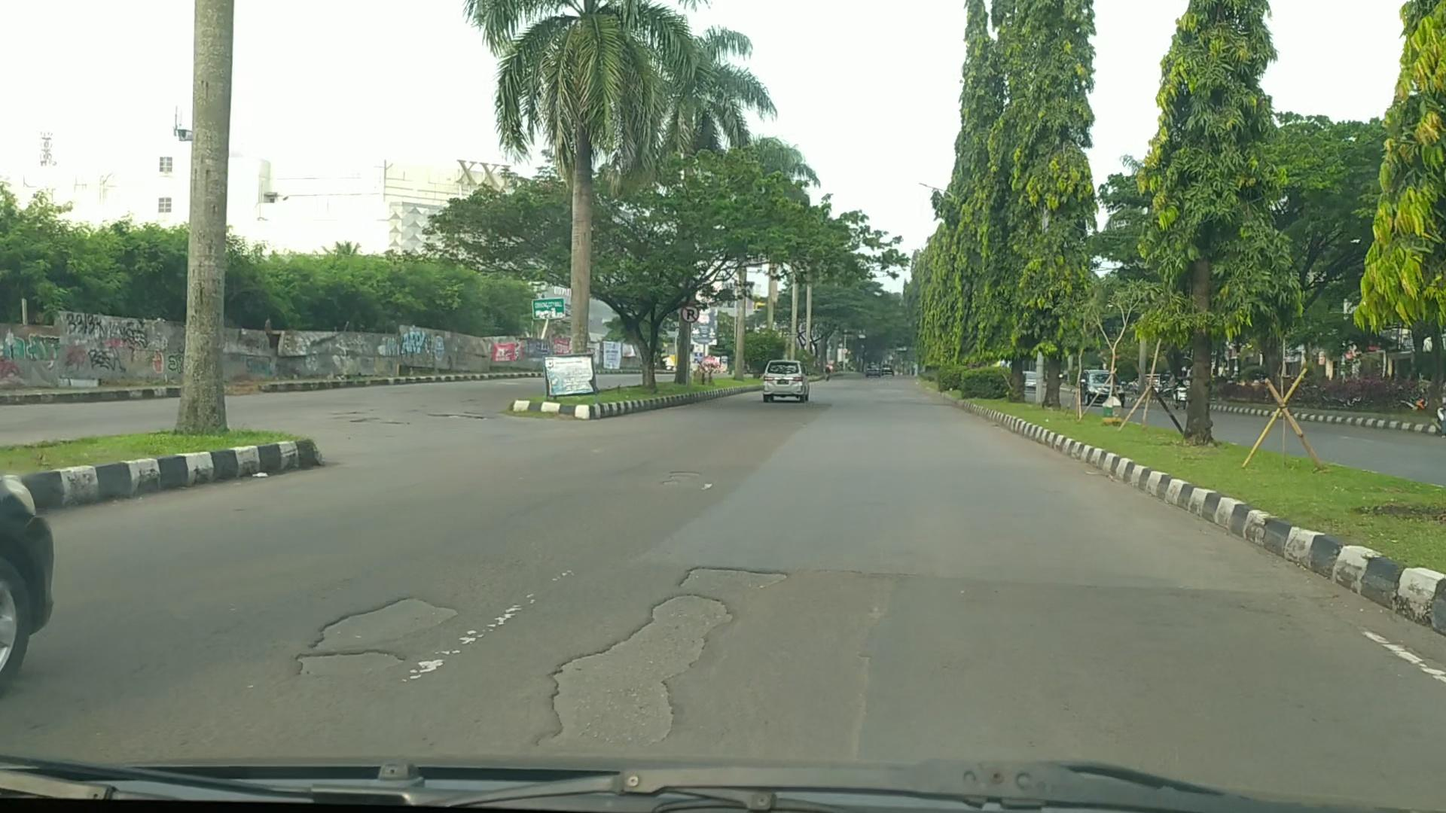pothole: (542, 592, 738, 749), (306, 594, 460, 650), (675, 564, 791, 595), (293, 648, 405, 676), (430, 413, 485, 420), (661, 480, 678, 485)
